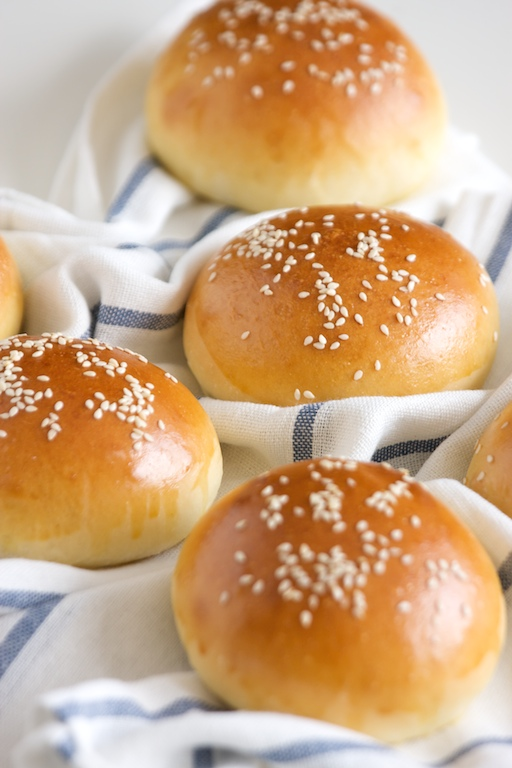hamburger_buns: (169, 458, 512, 699), (197, 196, 460, 395), (1, 325, 212, 569)
